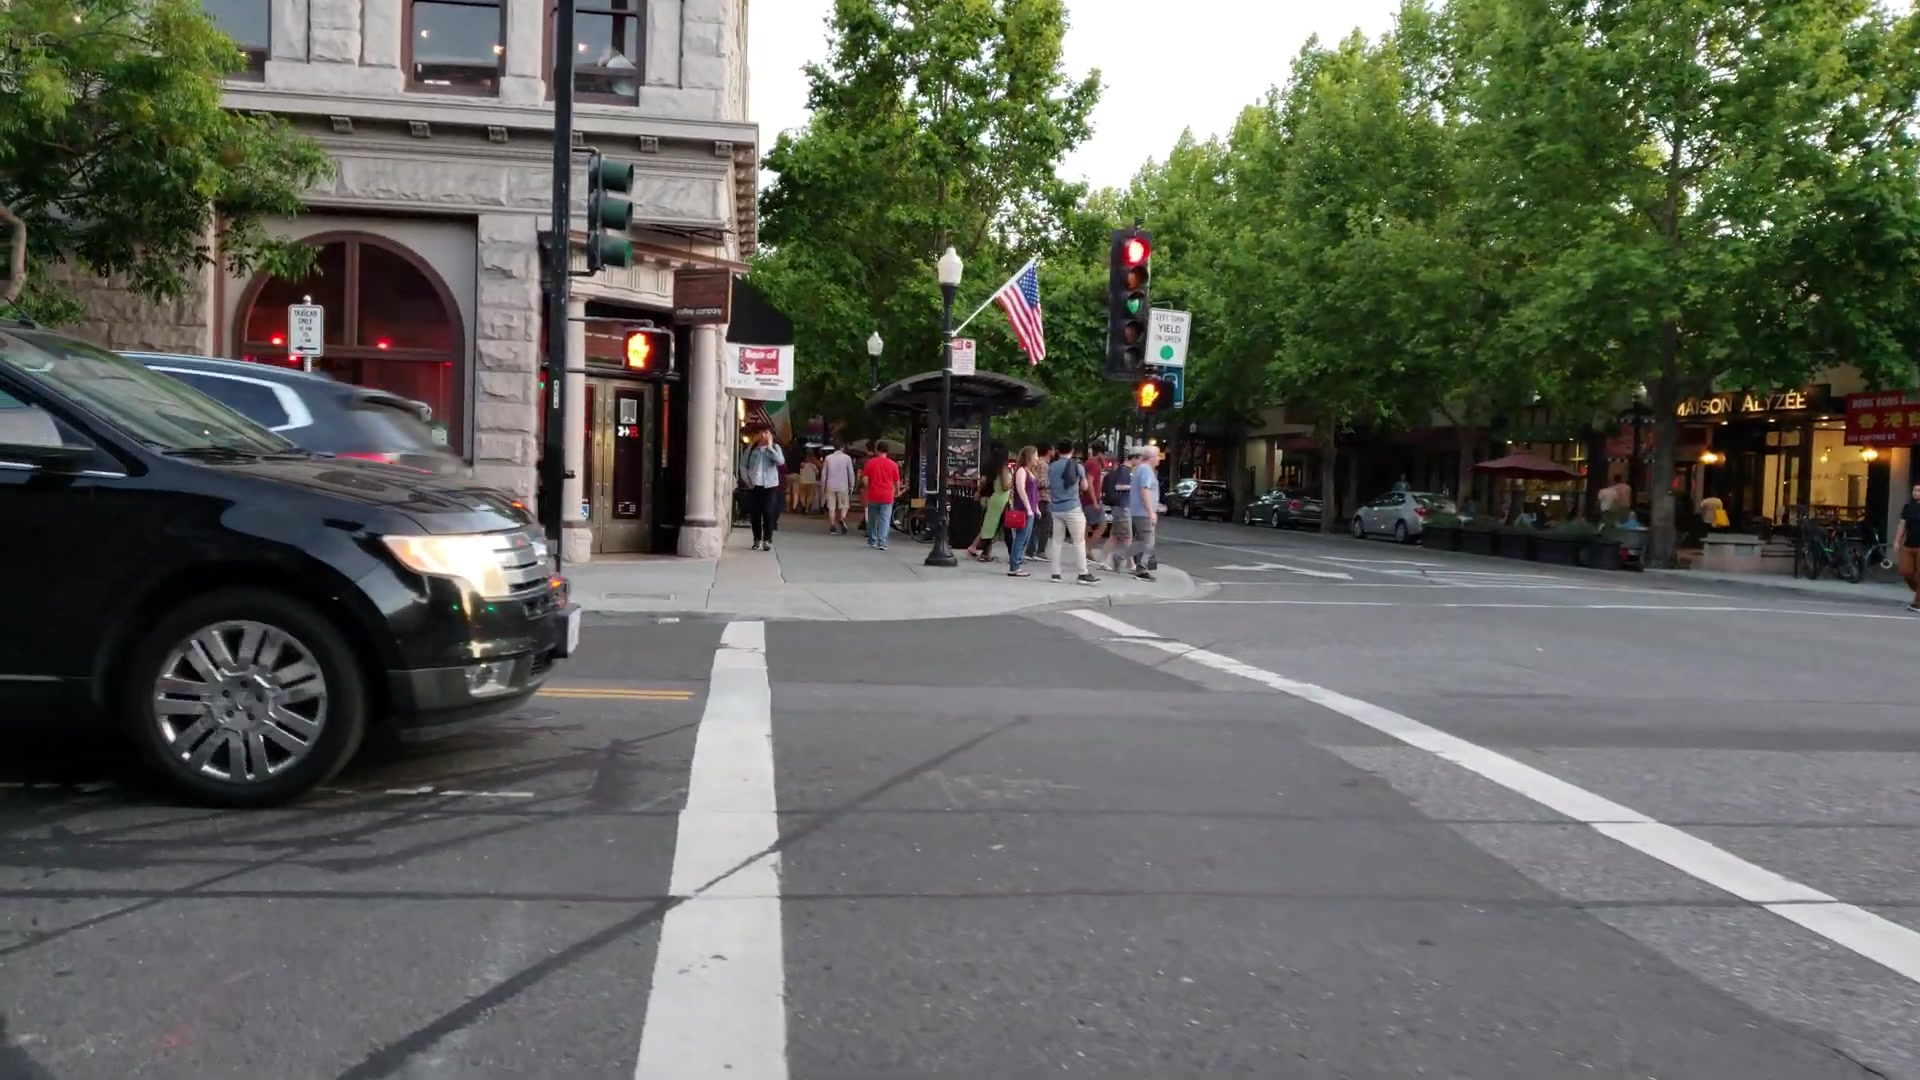vehicle: (1, 318, 584, 807)
